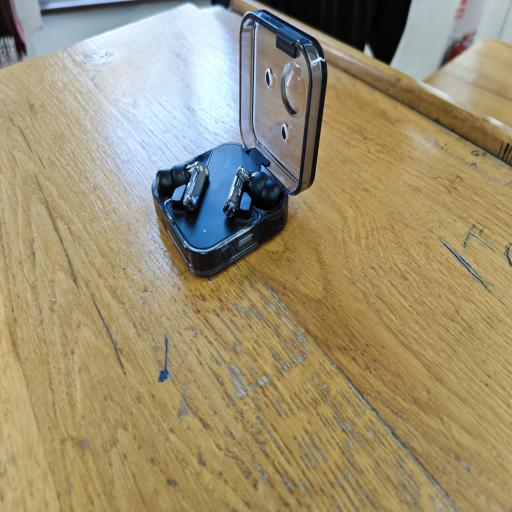CASTI: (148, 0, 333, 282)
